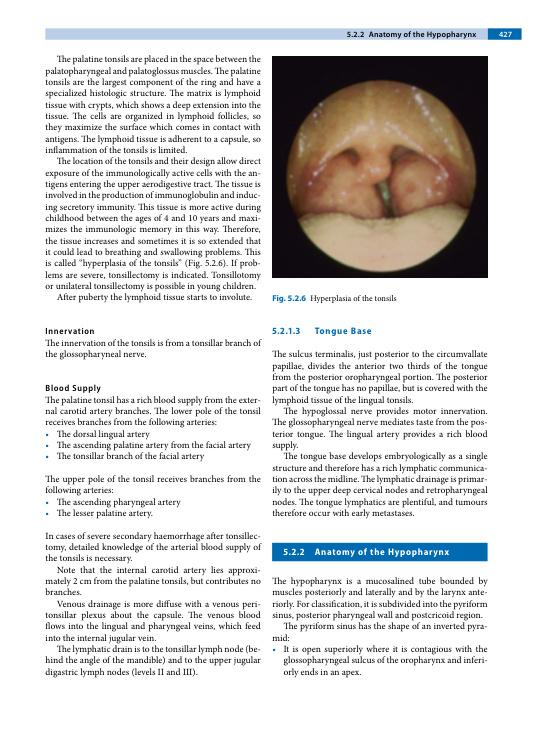caption: (271, 294, 397, 304)
header: (368, 30, 477, 40)
image: (271, 55, 488, 279)
list: (45, 428, 253, 464), (271, 644, 489, 678), (44, 497, 182, 519)
section-heading: (314, 546, 450, 559)
sub-section-heading: (314, 326, 373, 337), (44, 383, 102, 394), (44, 327, 95, 335)
text: (44, 53, 263, 304), (270, 349, 488, 520), (44, 531, 262, 679), (271, 575, 489, 643), (44, 395, 262, 428), (45, 338, 263, 361), (44, 474, 262, 497)
